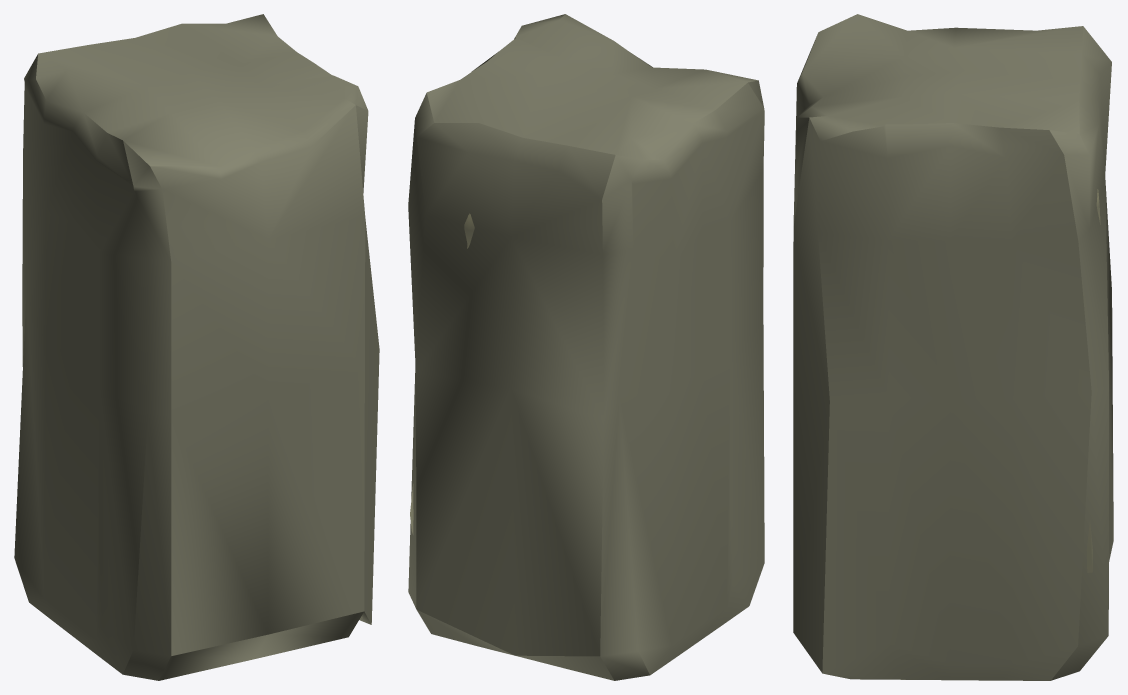
Rendered from Block_Test.fbx.
3 renders of one model, left to right at view 1: azimuth 30°, elevation 25°; view 2: azimuth 150°, elevation 25°; view 3: azimuth 270°, elevation 25°, orthographic. The views are drawn at different scales.
Visible parts, largest first — view 1: Rock1; view 2: Rock1; view 3: Rock1.
Part boxes in pixels (<box>): Rock1: <box>14,14,379,680</box>; Rock1: <box>408,14,764,680</box>; Rock1: <box>793,14,1113,680</box>.
Size of the model in its own units: 2.15 by 4.49 by 2.36.
1 material, 1 textured.
